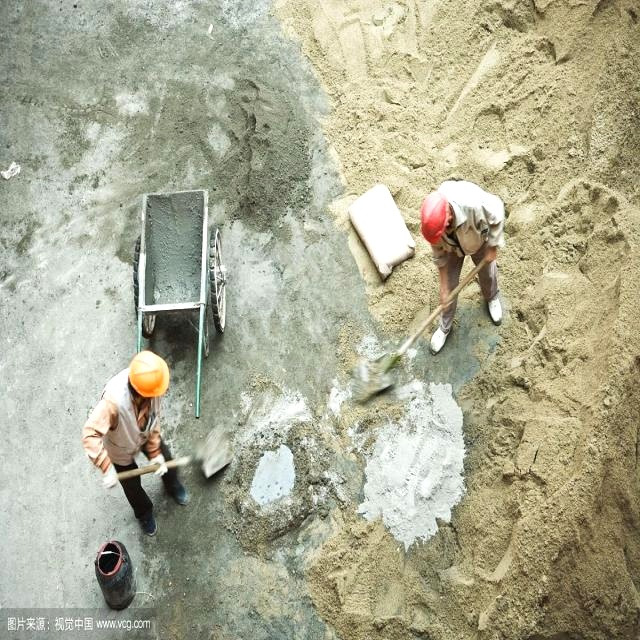Con_Casco: (130, 350, 170, 406), (420, 190, 448, 242)
